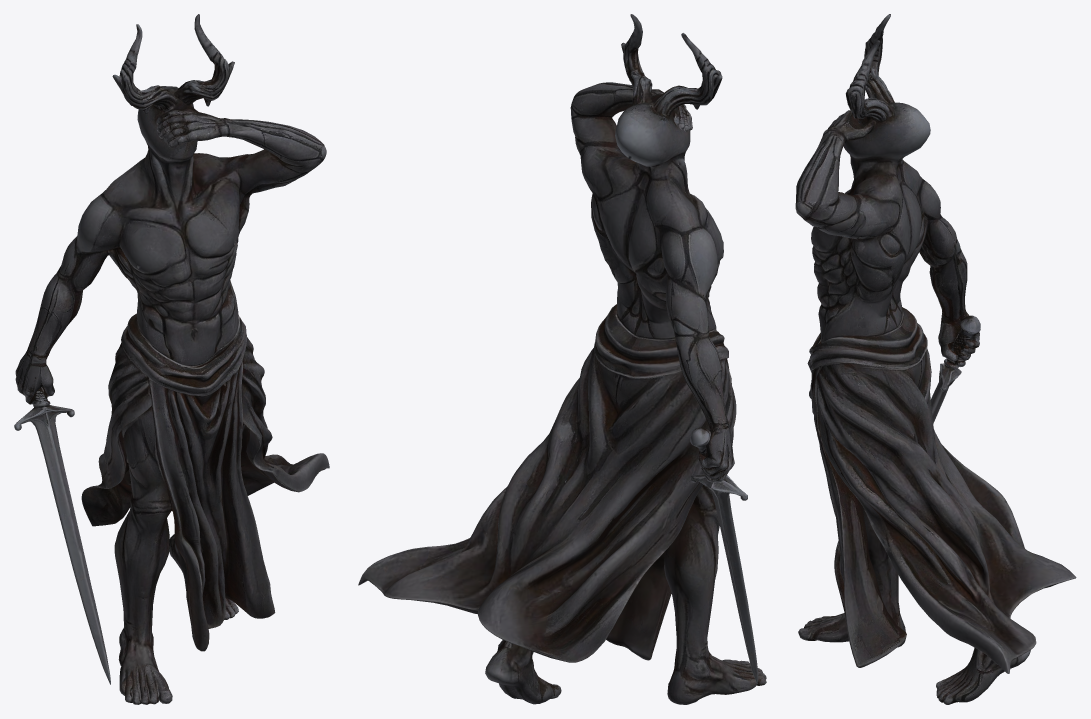
File: vaelrith__the_veiled_horn.glb
3 renders of one model, left to right at view 1: azimuth 30°, elevation 25°; view 2: azimuth 150°, elevation 25°; view 3: azimuth 270°, elevation 25°, orthographic. The views are drawn at different scales.
Visible parts, largest first — view 1: vaelrith__the_veiled_horn; view 2: vaelrith__the_veiled_horn; view 3: vaelrith__the_veiled_horn.
Part boxes in pixels (x1=…): vaelrith__the_veiled_horn: x1=14, y1=14, x2=329, y2=704; vaelrith__the_veiled_horn: x1=358, y1=14, x2=766, y2=704; vaelrith__the_veiled_horn: x1=795, y1=14, x2=1076, y2=704.
Bounding box in the file's own units: 1.23 × 2.2 × 0.8867.
Materials: 1 (1 with a texture image).
